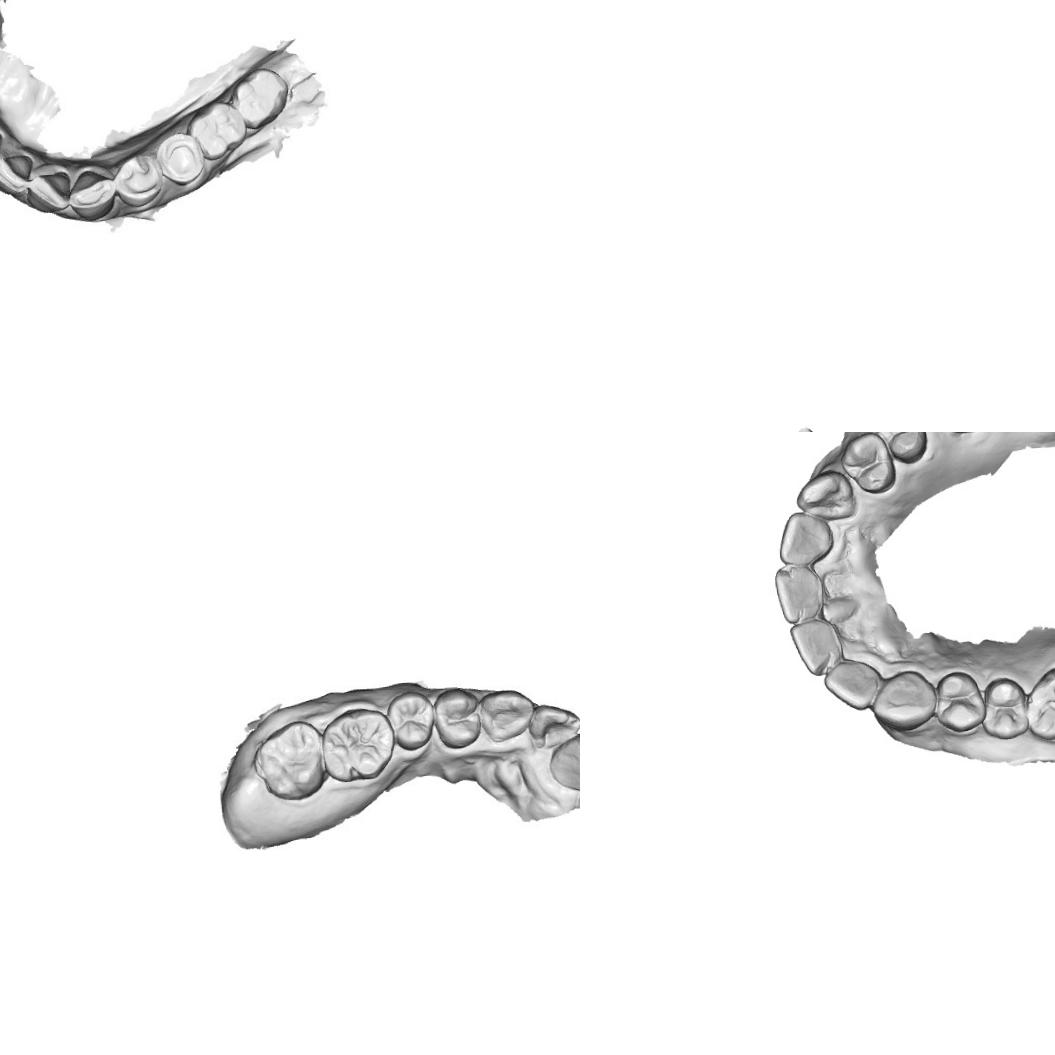canine: (868, 665, 938, 735), (792, 466, 858, 524), (64, 164, 116, 224), (477, 689, 529, 742)
incisor: (774, 507, 836, 570), (771, 561, 828, 625), (820, 654, 880, 712), (788, 612, 840, 677), (527, 695, 580, 754), (540, 732, 580, 792), (30, 165, 72, 209), (0, 151, 31, 195)
molar: (248, 714, 330, 804), (322, 704, 397, 782), (231, 66, 291, 131), (185, 100, 244, 160), (1020, 662, 1055, 745)
premolar: (930, 667, 988, 737), (837, 432, 898, 497), (978, 672, 1031, 742), (384, 686, 436, 752), (112, 152, 164, 210), (434, 686, 481, 747), (155, 132, 204, 190), (870, 432, 929, 466)
